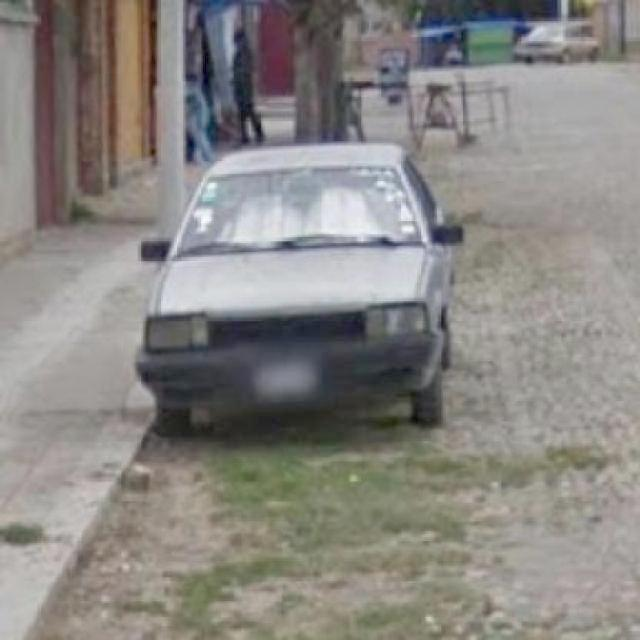car: (150, 137, 464, 436)
